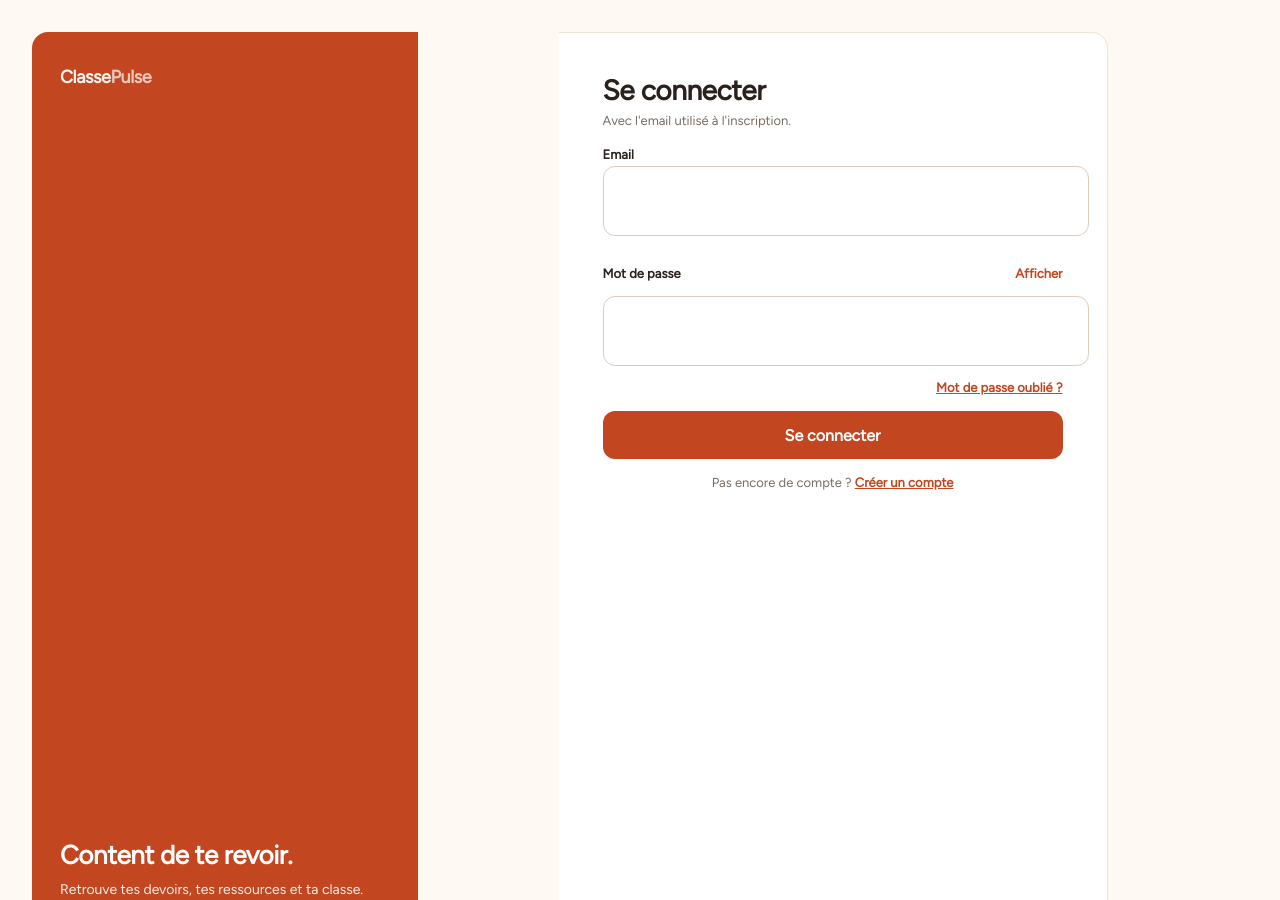
Test case: connexion (P2, M8) › propose les champs, le mot de passe oublié et la création de compte
The width and height of the screenshot is (1280, 900).
Check: the heading "Se connecter" is shown, box top-left (602, 73), bottom-right (765, 107)
Check: the text "Avec l'email utilisé à l'inscription." is shown, box top-left (602, 113), bottom-right (791, 128)
Step 1. Click the link "Mot de passe oublié ?" → (999, 387), box top-left (936, 380), bottom-right (1062, 394)
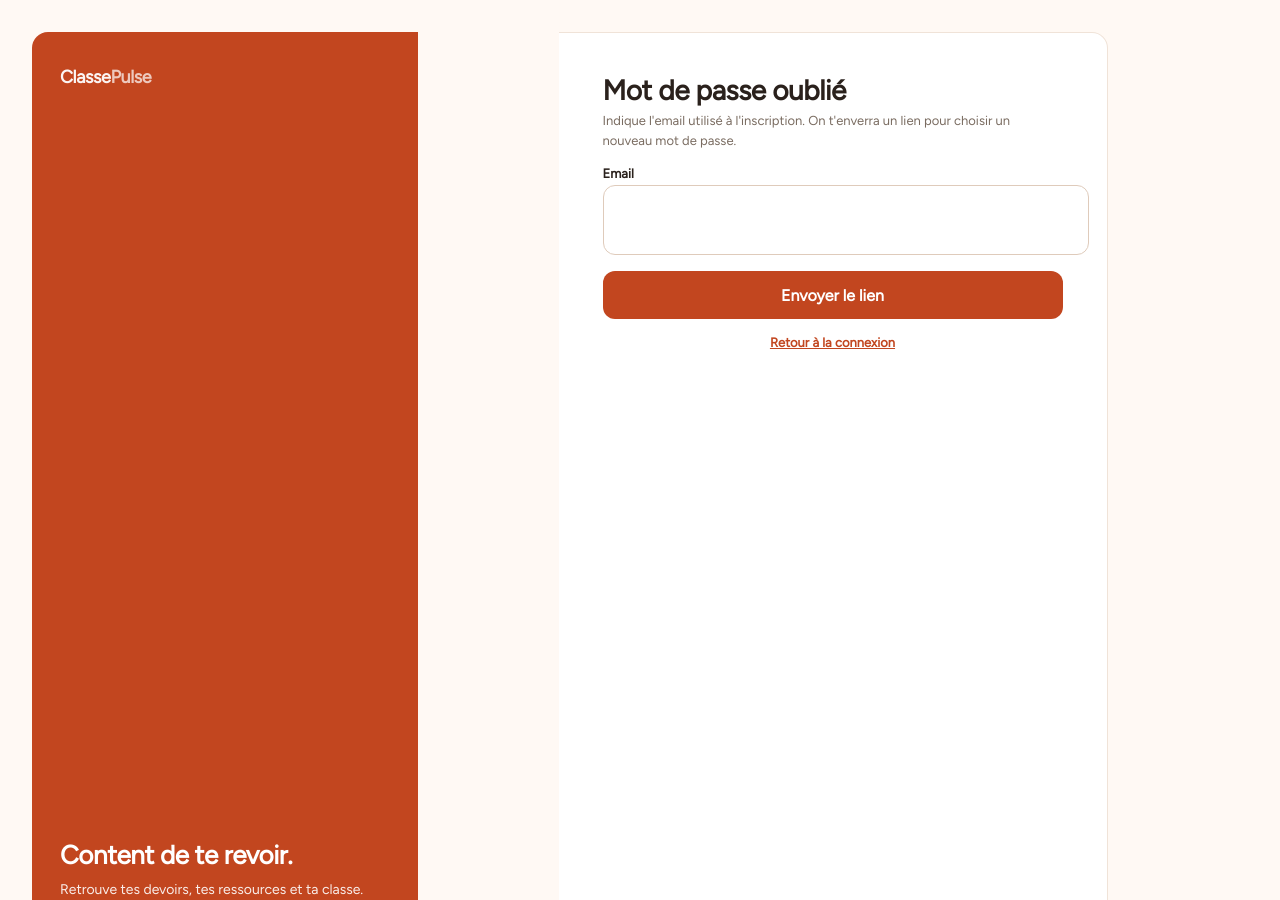
Check: the heading "Mot de passe oublié" is shown, box top-left (602, 73), bottom-right (846, 107)
